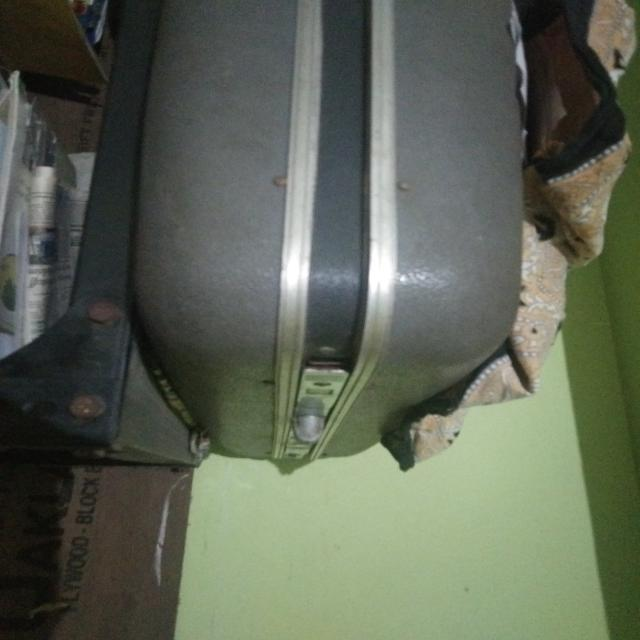suitcaserotation: (124, 1, 530, 476)
